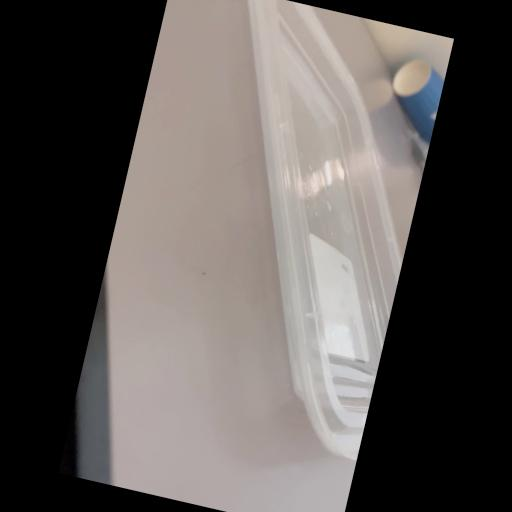rigid_plastic_lid: (145, 0, 448, 456)
